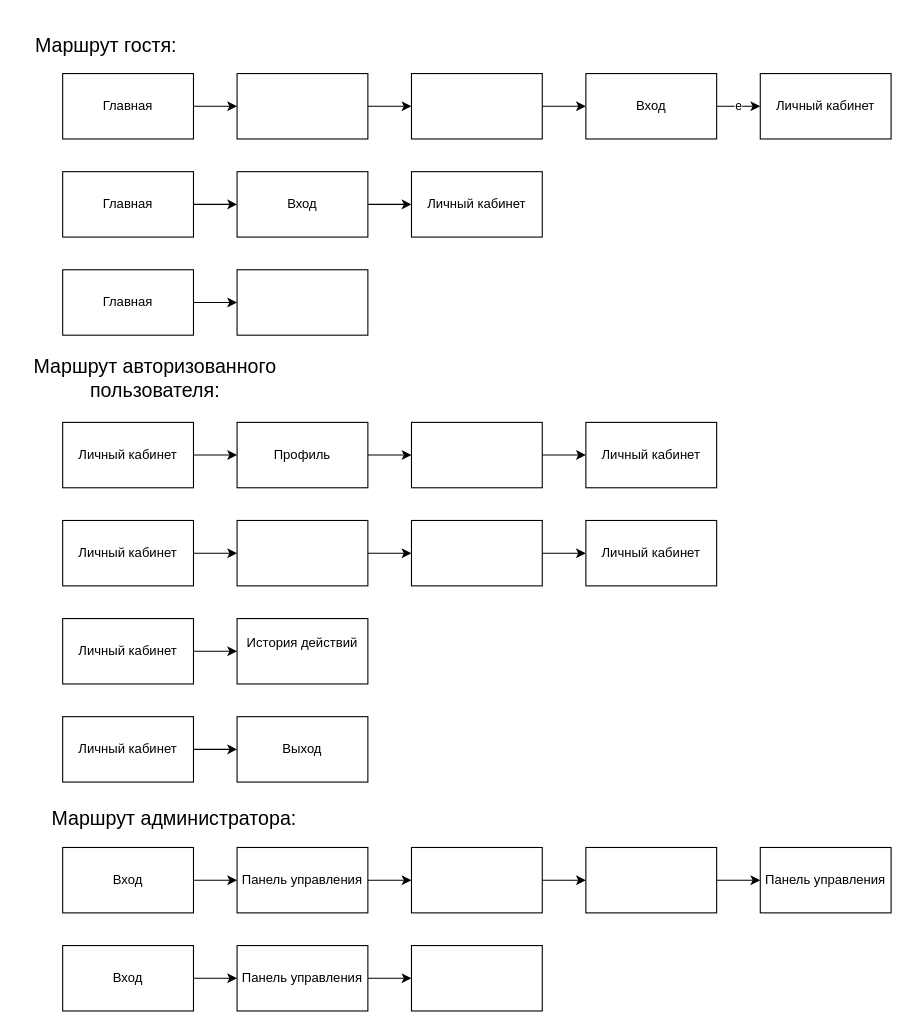
The diagram is 910 pixels wide and 1030 high, and some of its shapes have lost their labels. The centre of each missing label's shape, as x and y in pixels:
Добавление/редактирование данных: (476,552)
Заполнение формы: (476,105)
Карточка пользователя: (651,879)
О проекте: (302,302)
Общие настройки: (476,977)
Основная рабочая страница: (302,552)
Регистрация: (302,105)
Редактирование профиля: (476,454)
Управление пользователями: (476,879)
